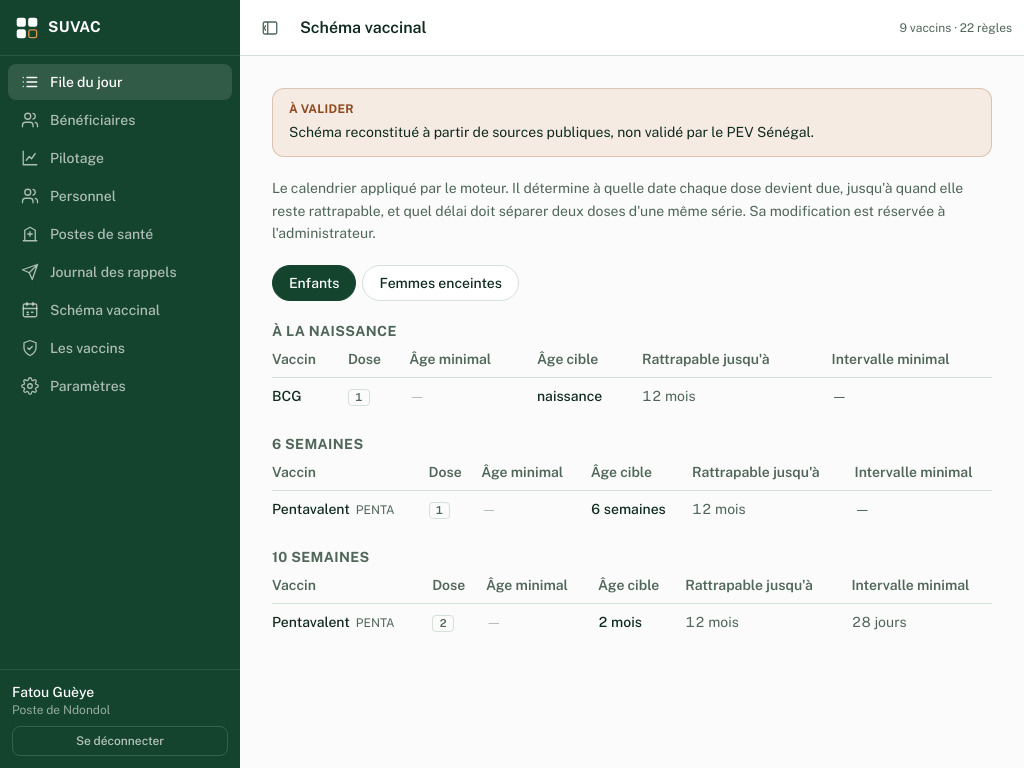
it: SchemaVaccinal › signale une dose sans limite d'âge
The width and height of the screenshot is (1024, 768).
Click the tab "Femmes enceintes" at (441, 283), box [362,265,519,301]
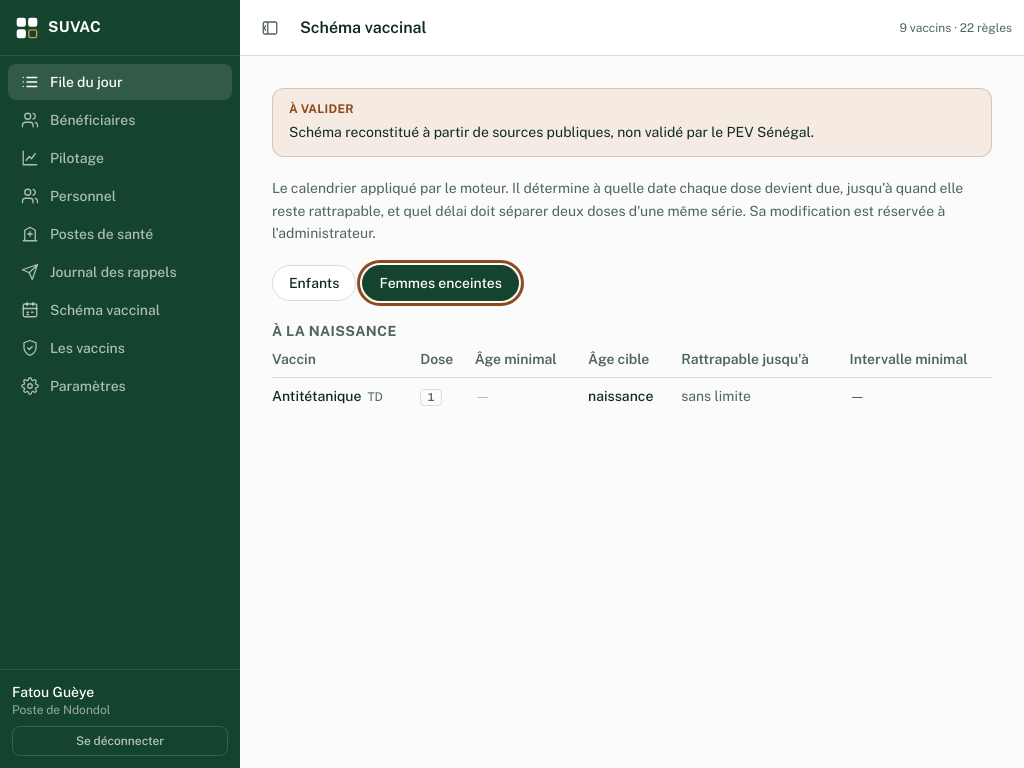
Now the text "sans limite" is shown, box [681,388,751,404]
